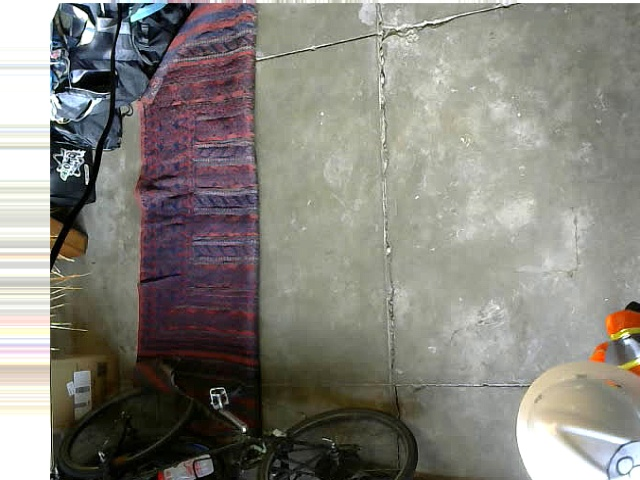eight: (602, 441, 639, 479)
